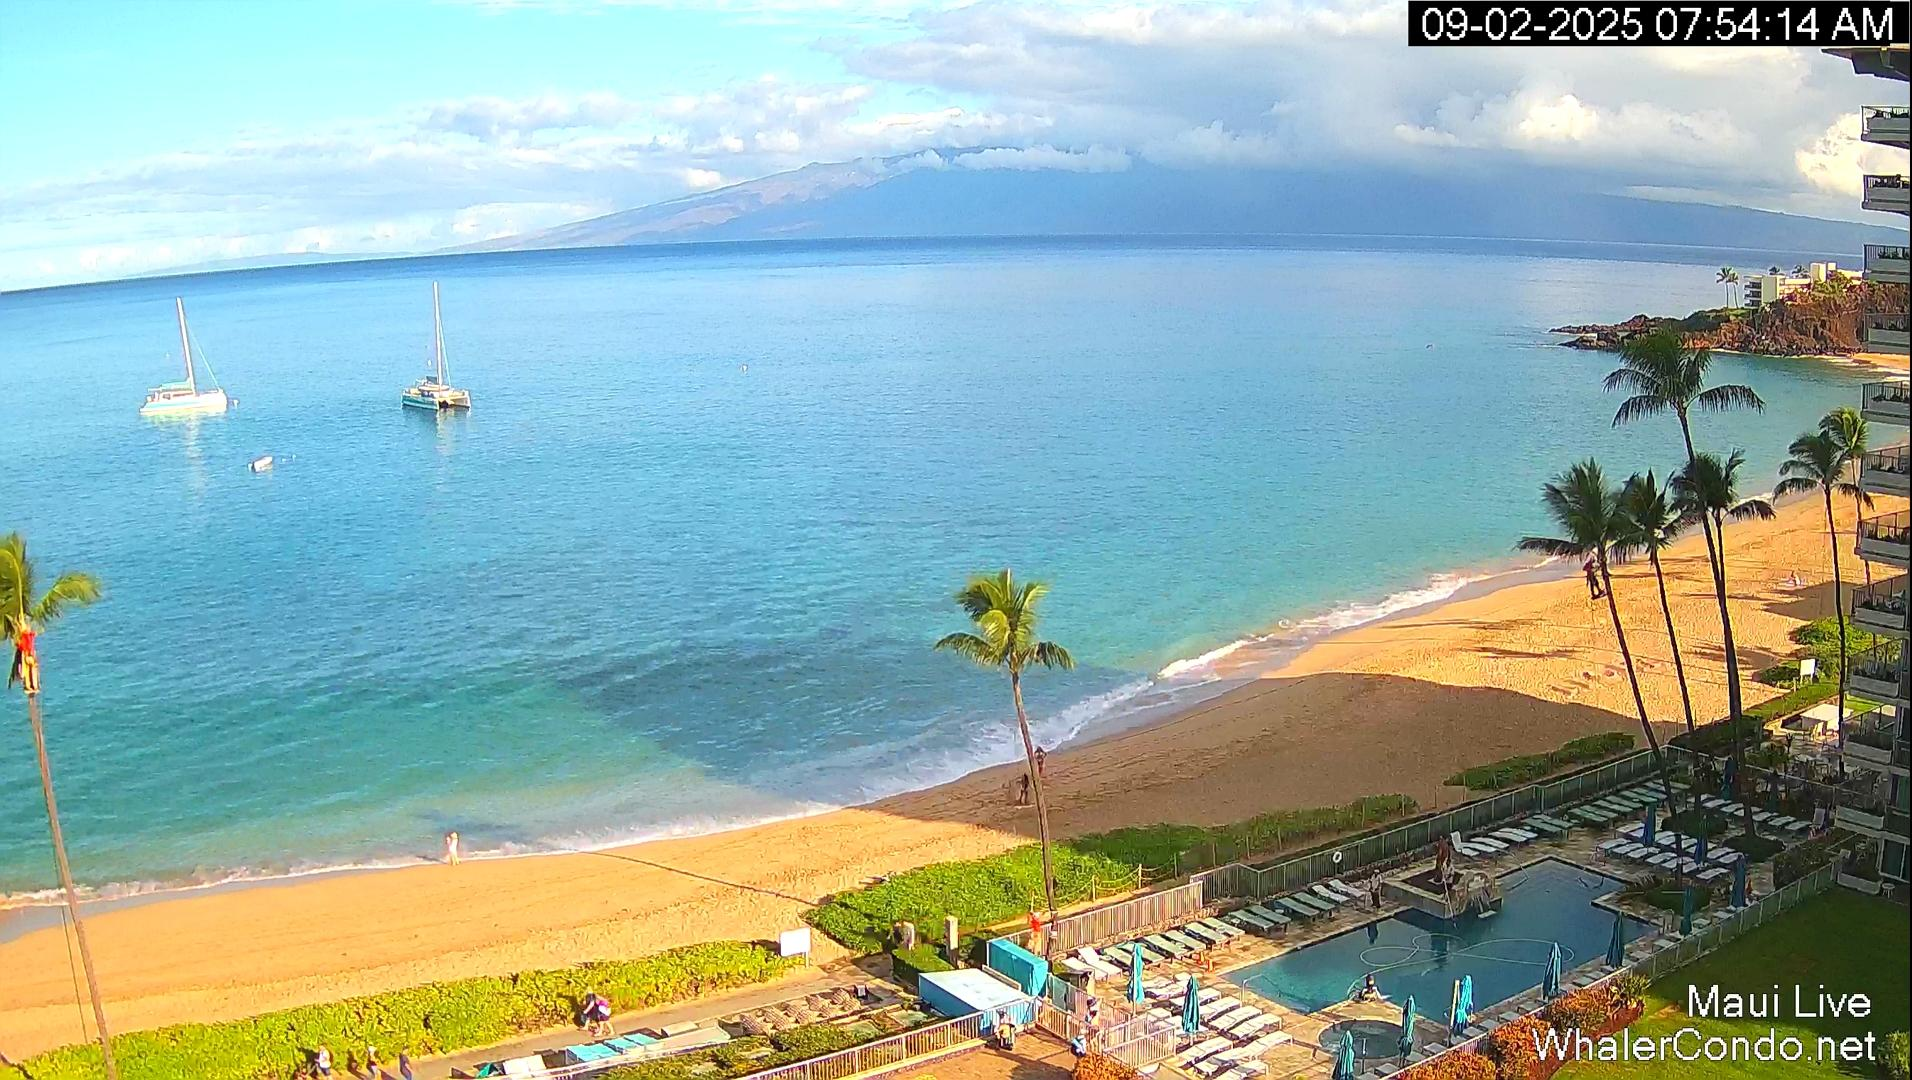boat: (139, 296, 229, 415), (400, 280, 471, 412), (250, 453, 274, 470)
person: (17, 626, 41, 694), (594, 990, 615, 1037), (1583, 558, 1603, 600), (313, 1044, 333, 1079), (583, 989, 598, 1033), (1030, 913, 1046, 954), (446, 831, 462, 866), (1368, 869, 1382, 908), (900, 918, 916, 951), (399, 1046, 413, 1080), (1435, 835, 1449, 869), (1073, 1027, 1090, 1054), (1034, 746, 1048, 778), (892, 917, 903, 952), (1019, 774, 1030, 804), (1788, 567, 1803, 587)
